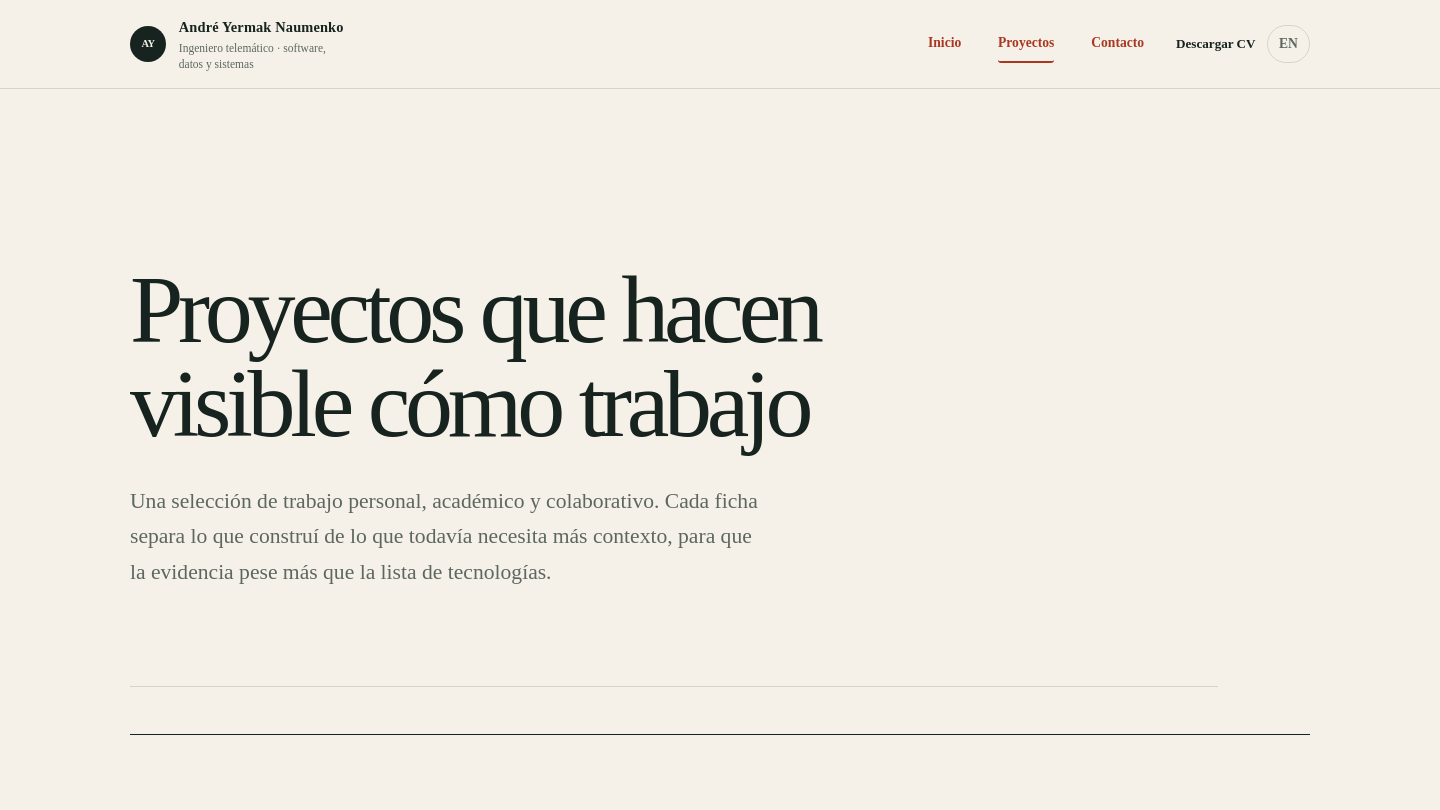
Test case: portfolio application › renders a bilingual, accessible navigation and preserves the current page
expect the heading "Proyectos que hacen visible cómo trabajo" is shown: met, box [130, 256, 819, 458]
expect the navigation bar named "Navegación principal" is shown: met, box [928, 25, 1144, 63]
Click the link with aria-label "Switch to English": point(1288, 44) [1267, 25, 1310, 63]
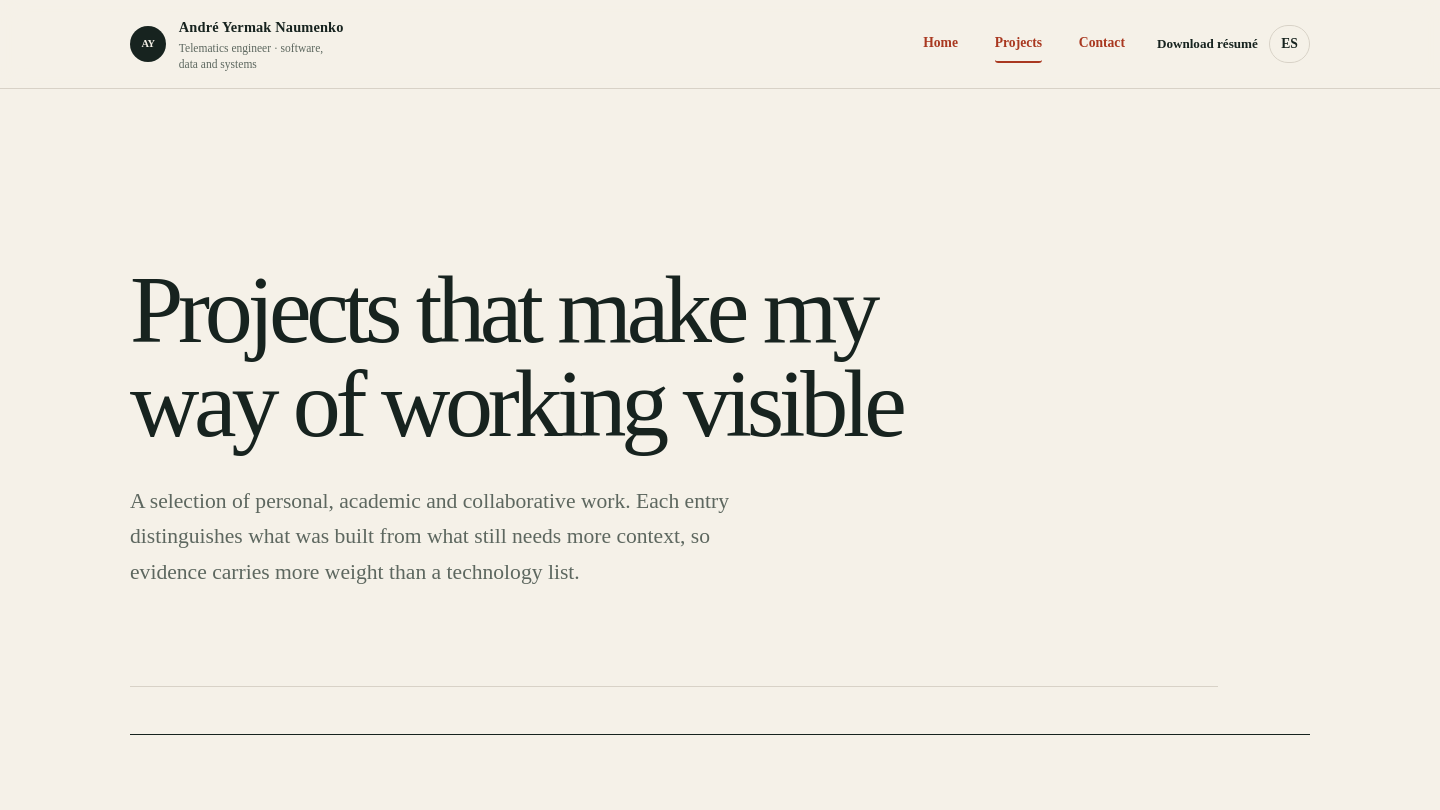
expect the heading "Projects that make my way of working visible" is shown: met, box [130, 256, 902, 458]
